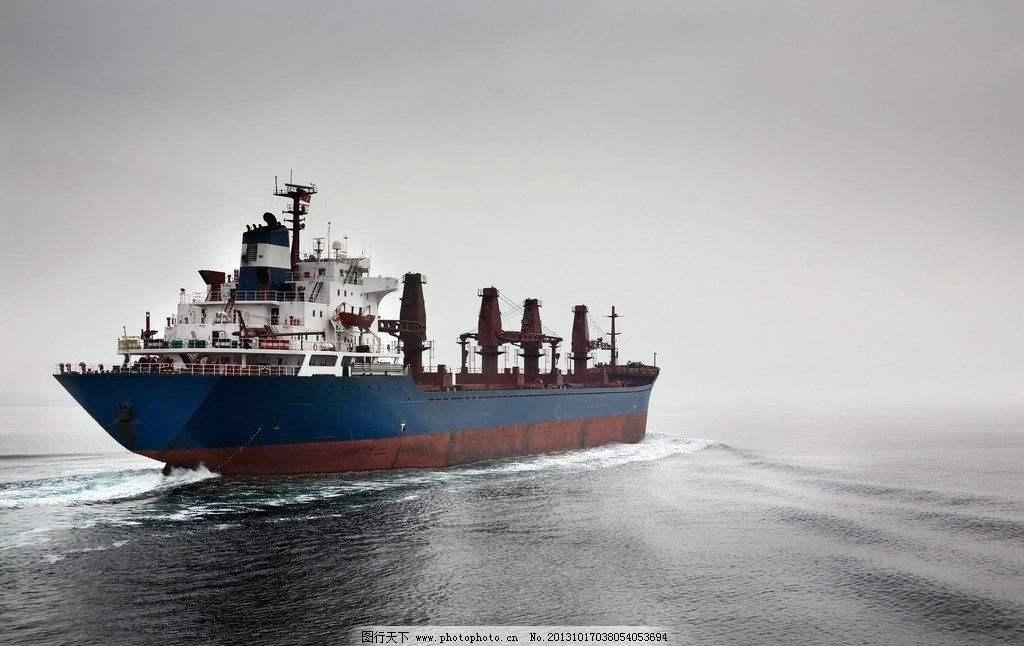Cargoship: (51, 171, 658, 492)
